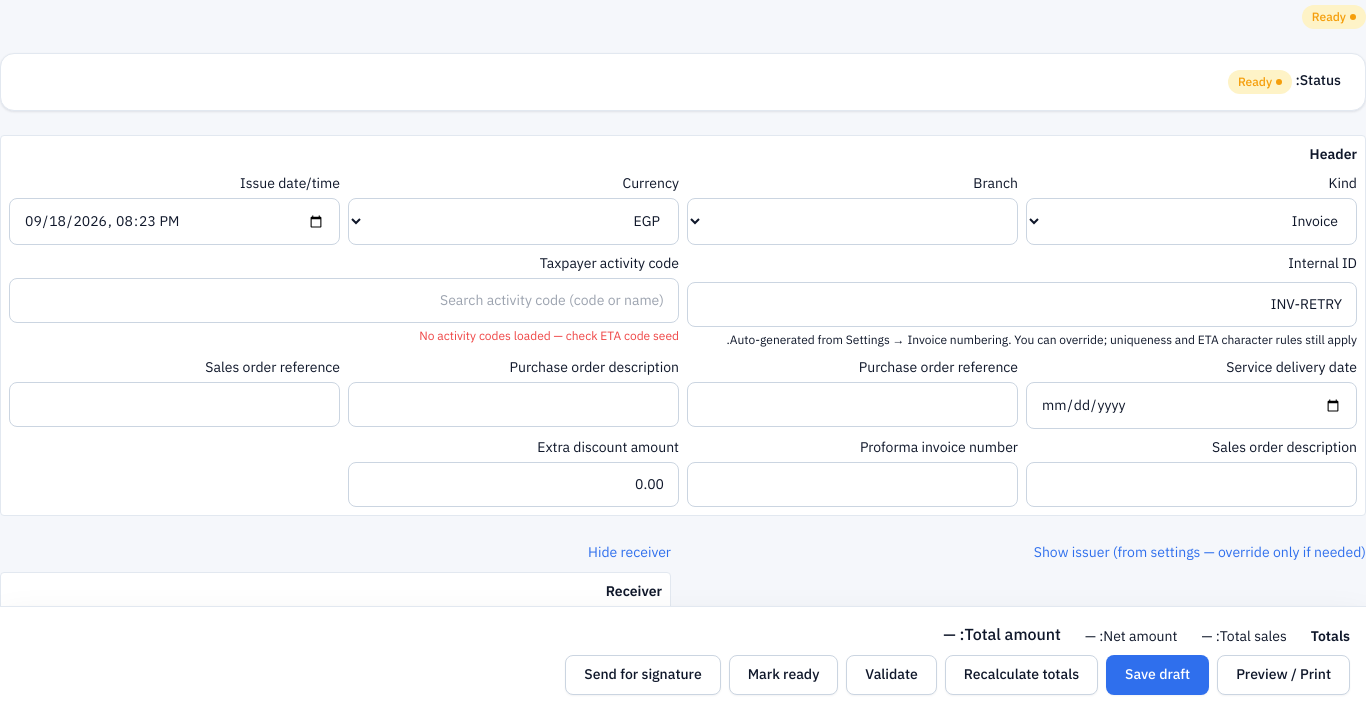
Test: document detail › allows send after FAILED or CANCELLED and after a successful first send shows waiting
Click the button with test id "send-for-signature" at (643, 675), box [565,656,721,695]
(page scrolled)
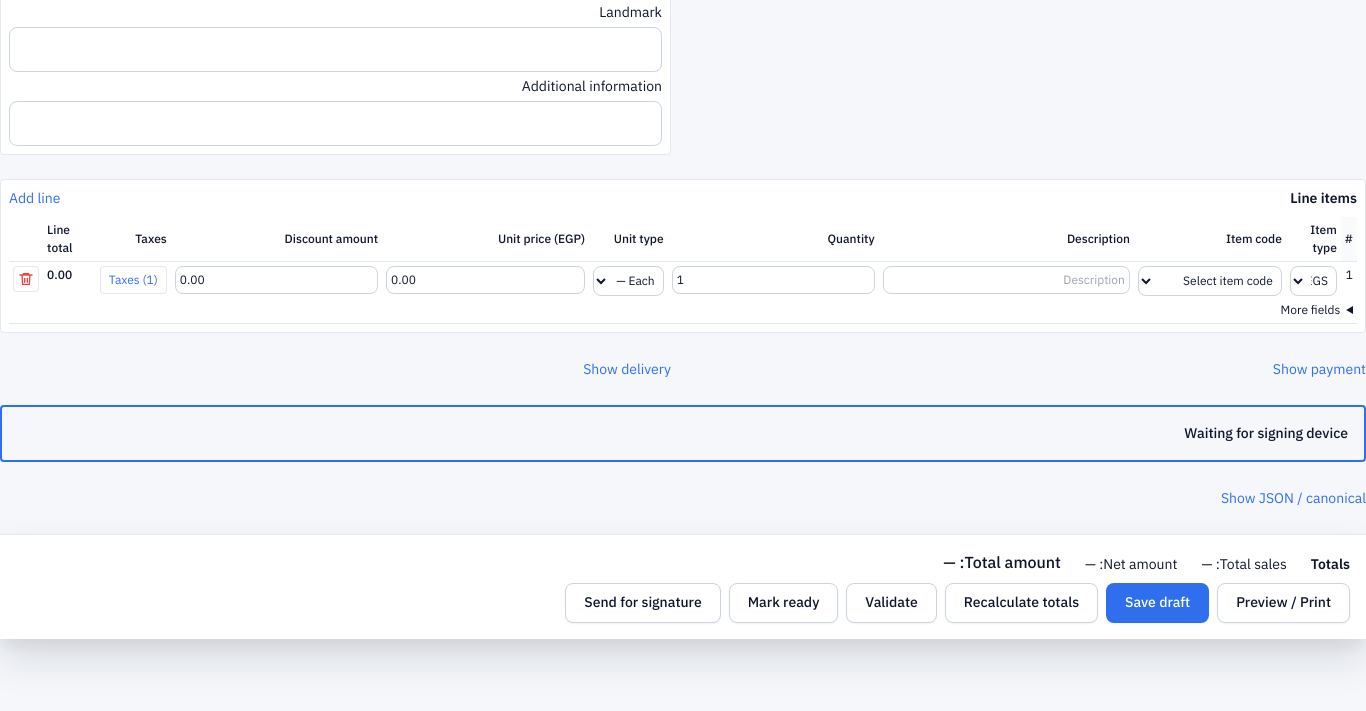
Expected: the list item "Waiting for signing device" is shown, [1184,423,1348,444]
